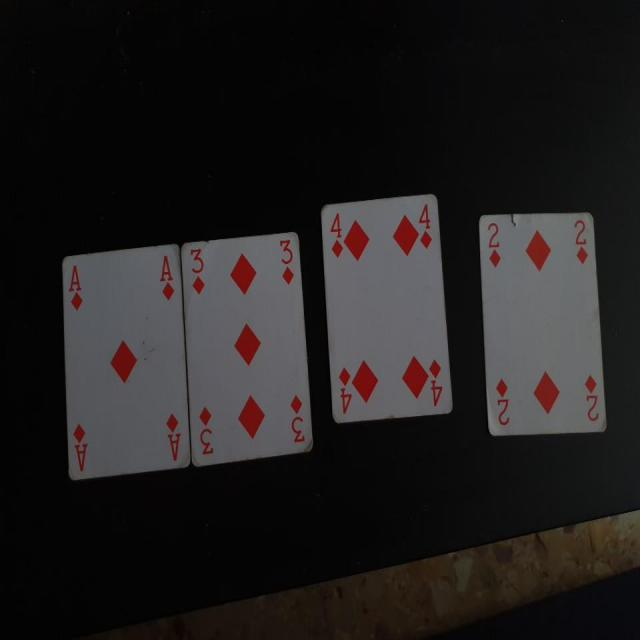2 Diamonds: (473, 205, 612, 442)
3 Diamonds: (180, 228, 317, 473)
4 Diamonds: (316, 194, 454, 429)
A Diamonds: (52, 233, 192, 486)
